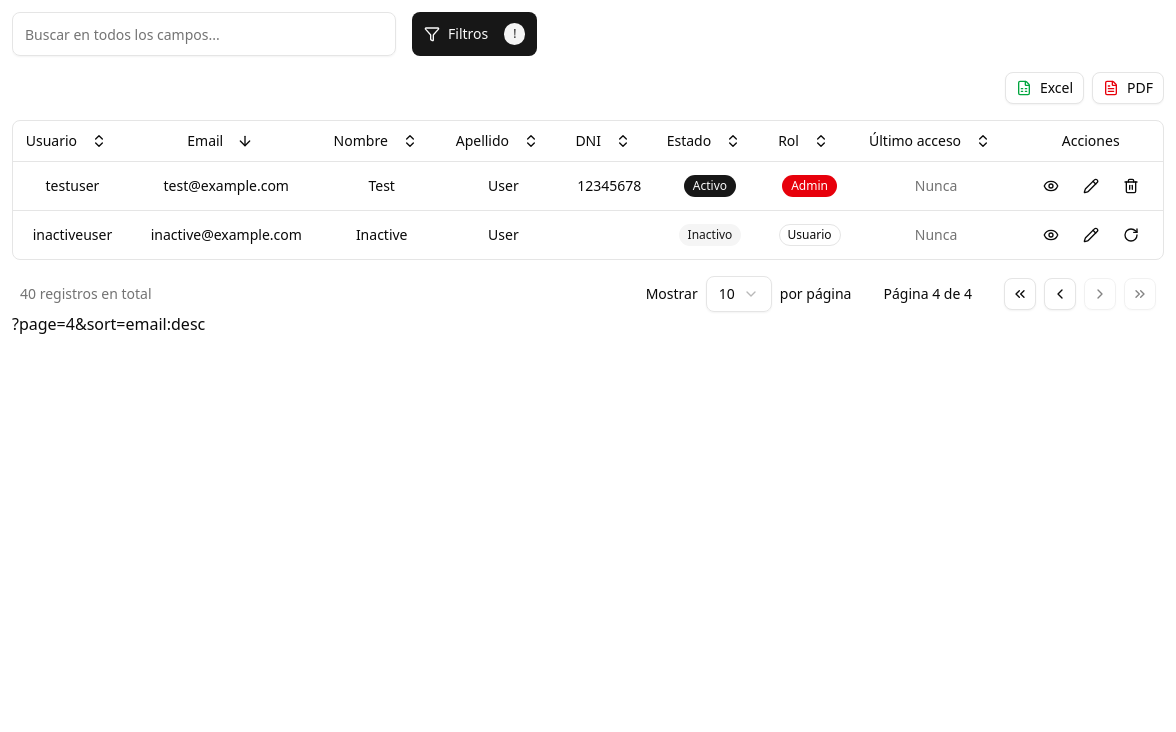
it: UsersTable › keeps mobile controls, desktop headers, URL state, and server sorting synchronized
Click the button "Filtros !": (475, 34) [412, 12, 538, 56]
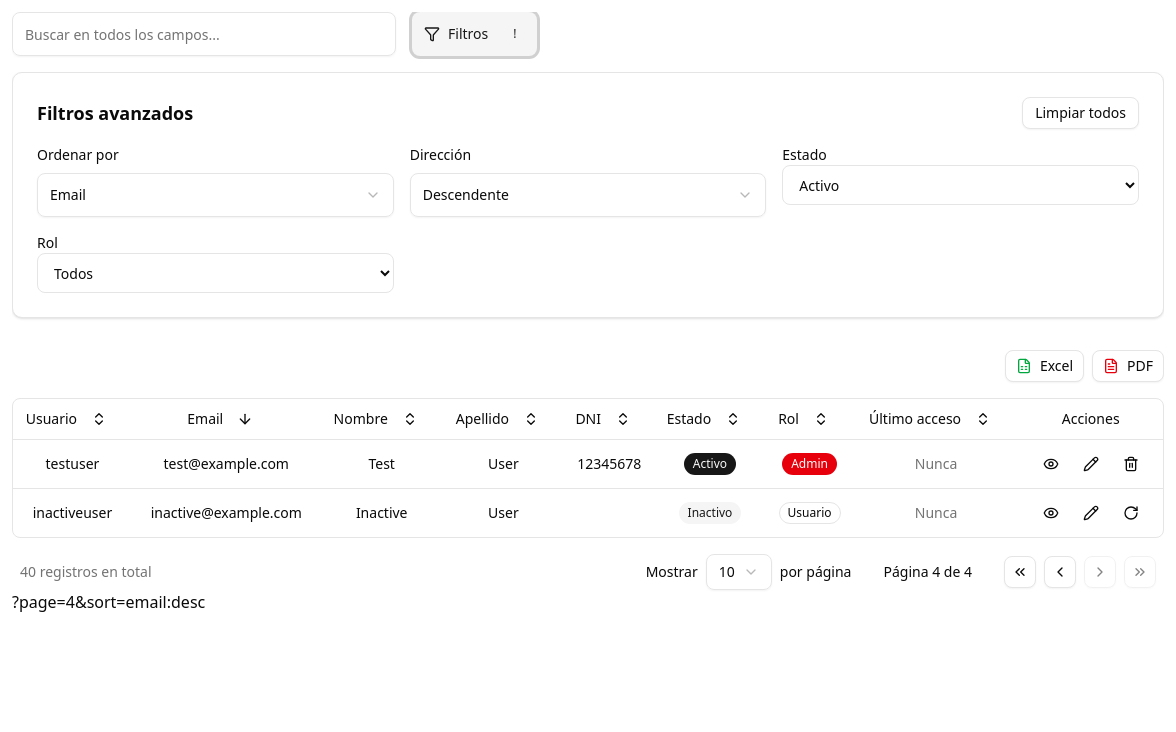
Expected: the dropdown named "Ordenar por" reads "Email"
Expected: the dropdown named "Dirección" reads "Descendente", [410, 173, 766, 217]
Click the dropdown named "Ordenar por": (68, 194) [37, 173, 394, 217]
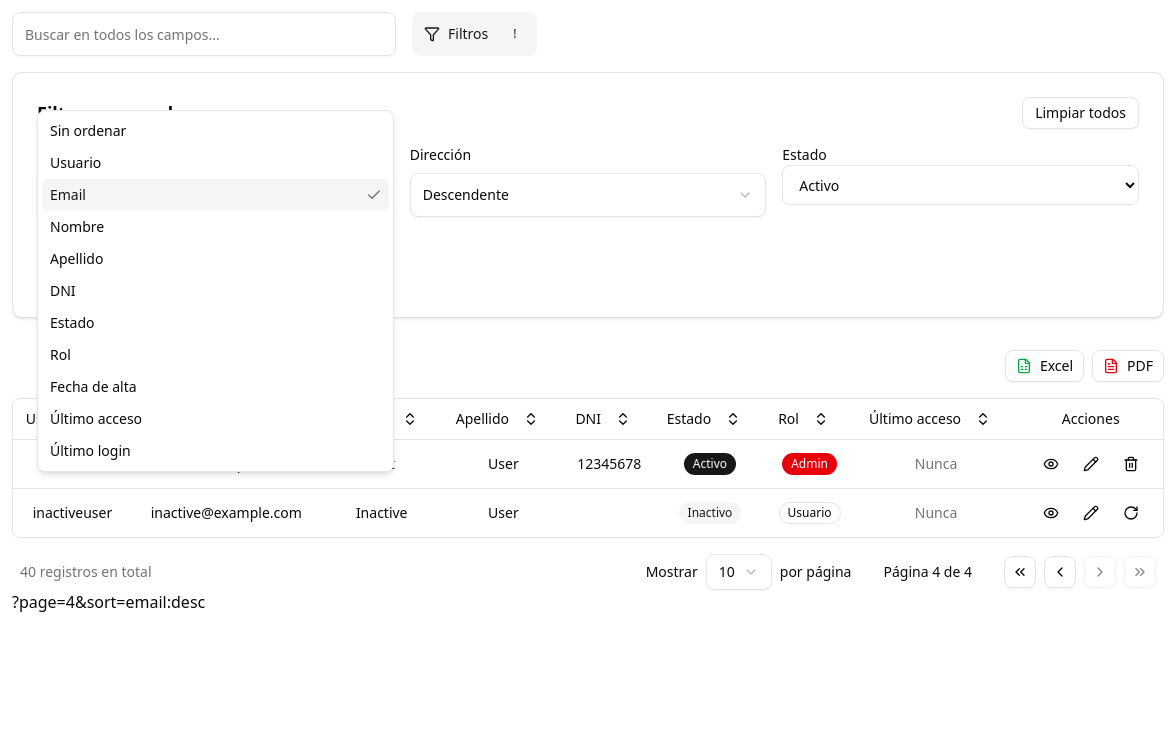
Click the option "Usuario": (76, 162) [50, 153, 101, 172]
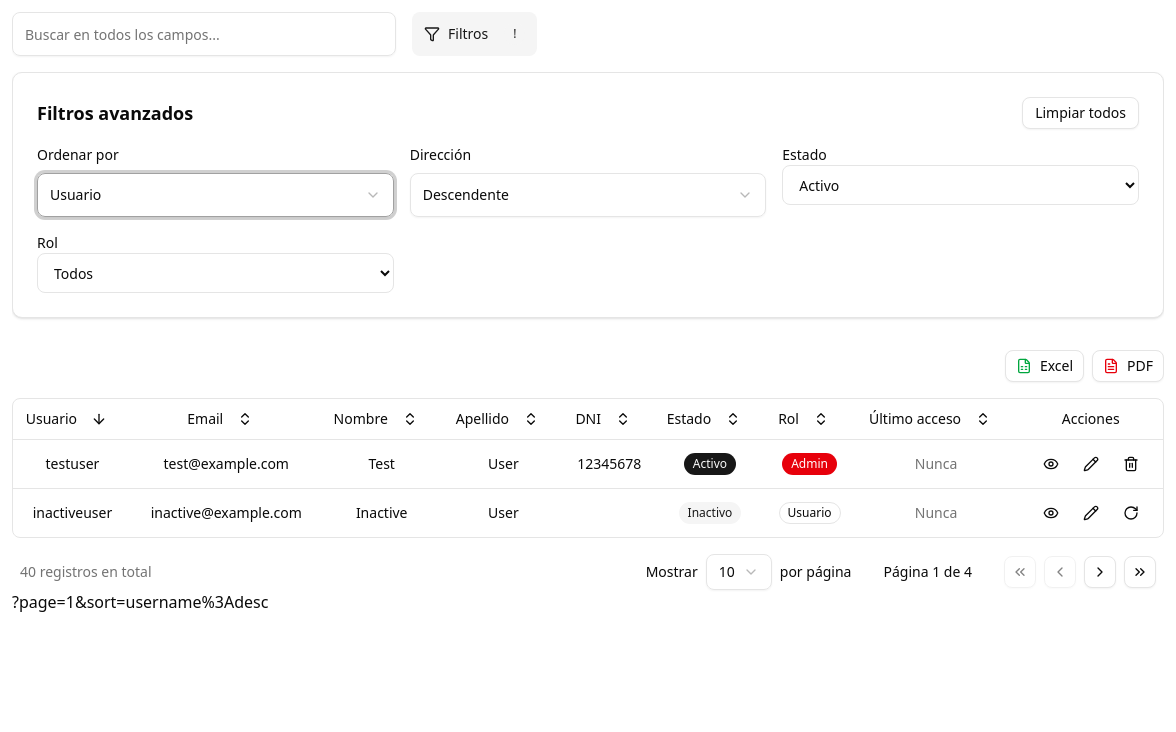
Expected: the text with test id "location-search" shows "sort=username%3Adesc", [12, 590, 268, 612]
Expected: the text with test id "location-search" shows "page=1", [12, 590, 268, 612]
Click the button "Nombre": (376, 419) [324, 403, 428, 435]
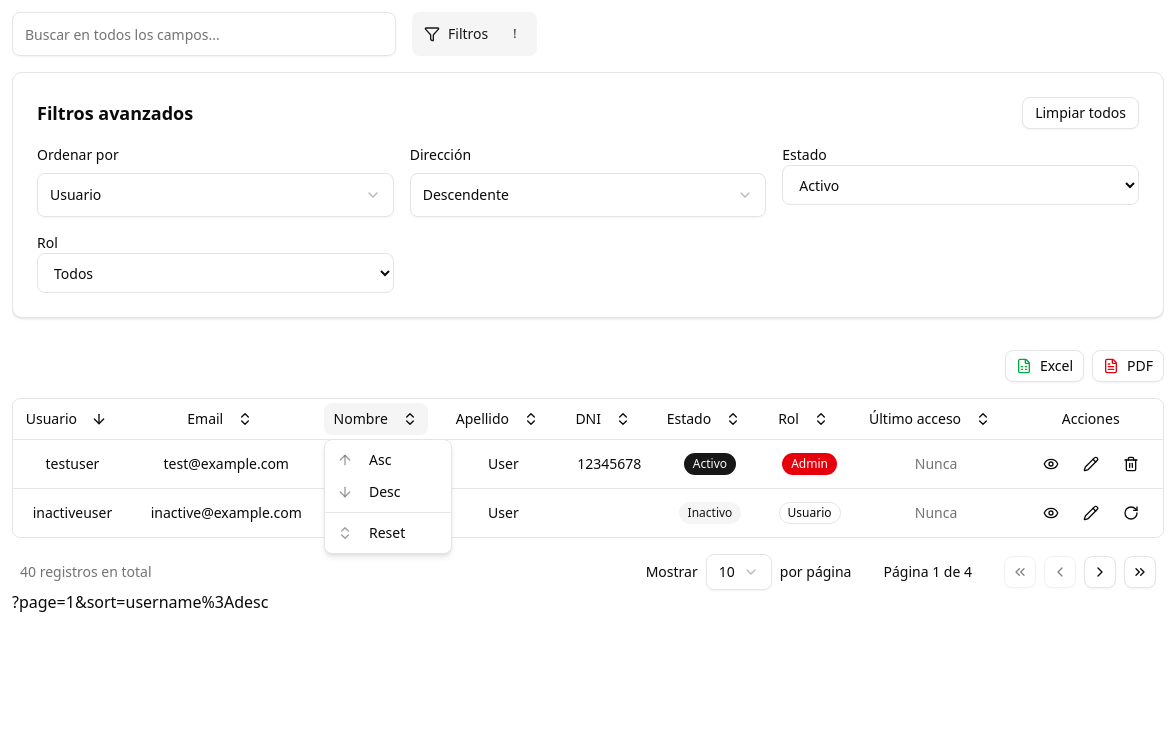
Click the menu item "Asc": (345, 460) [337, 450, 391, 469]
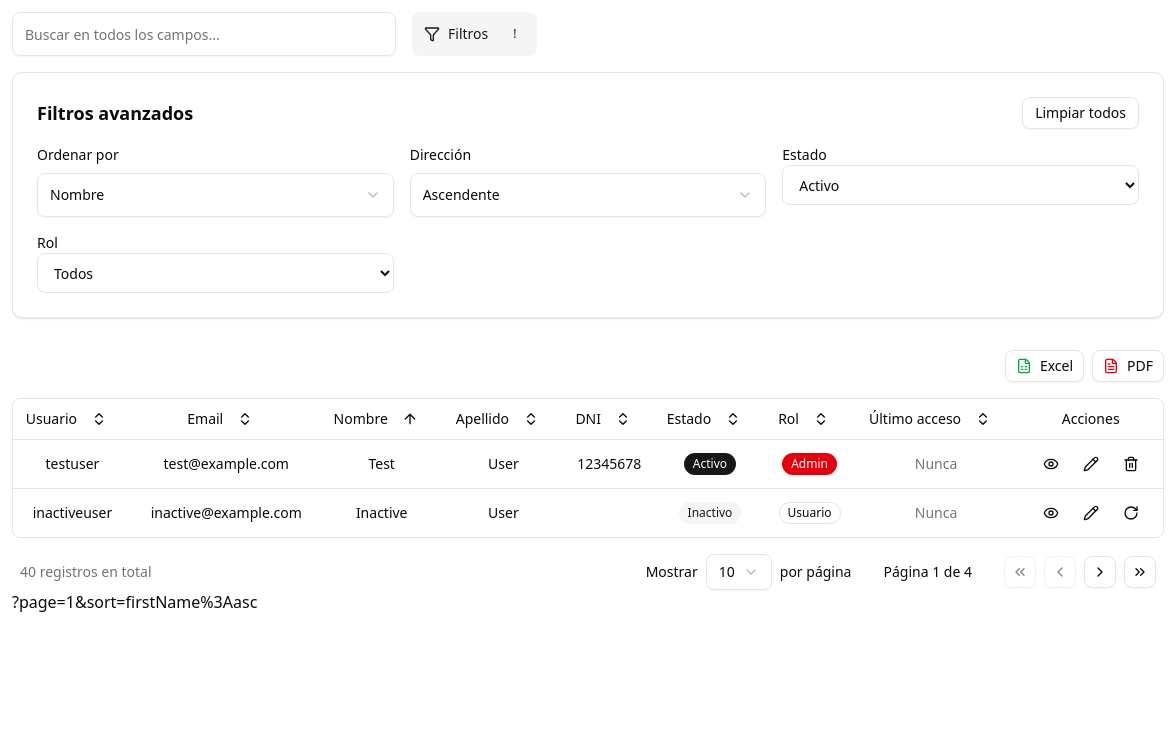
Expected: the text with test id "location-search" shows "sort=firstName%3Aasc", [12, 590, 257, 612]
Expected: the dropdown named "Ordenar por" reads "Nombre", [37, 173, 394, 217]
Expected: the dropdown named "Dirección" reads "Ascendente", [410, 173, 766, 217]
